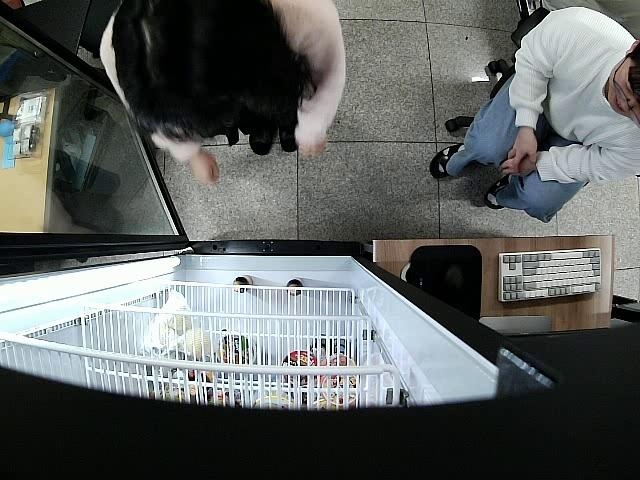00_hand: (190, 152, 222, 184), (499, 154, 538, 178), (297, 131, 327, 161), (509, 133, 539, 162)
